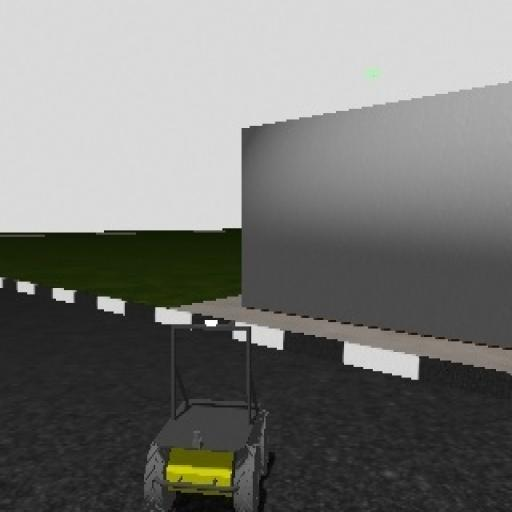huskya200: (149, 314, 275, 512)
